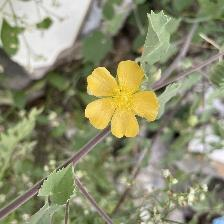indian mallow: (84, 59, 162, 143)
